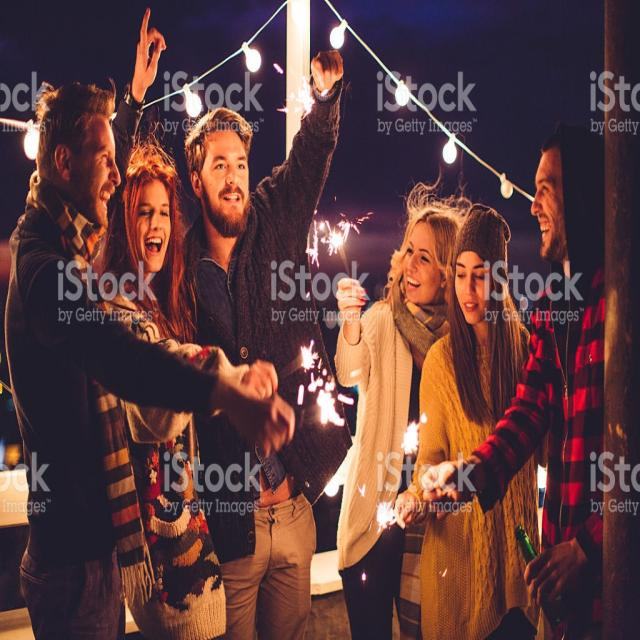body: (1, 2, 298, 639), (178, 45, 354, 640), (420, 118, 606, 640), (98, 141, 281, 640), (392, 201, 550, 640), (332, 175, 473, 640)
